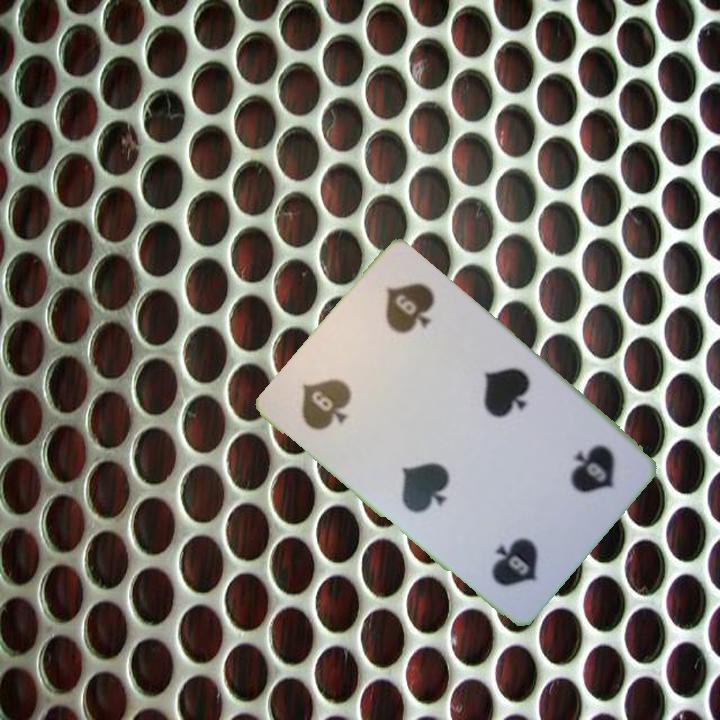s_6.png: (273, 329, 401, 459), (514, 410, 642, 539)
